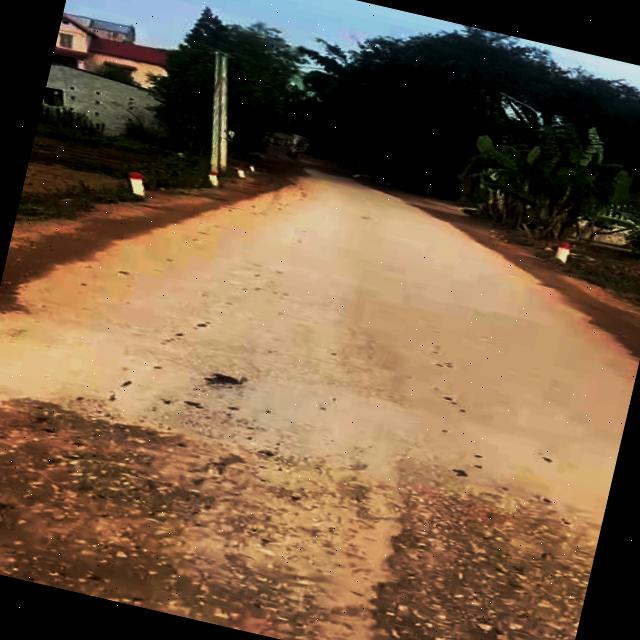pothole: (327, 459, 604, 640)
